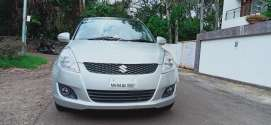nameplate: (110, 81, 135, 89)
